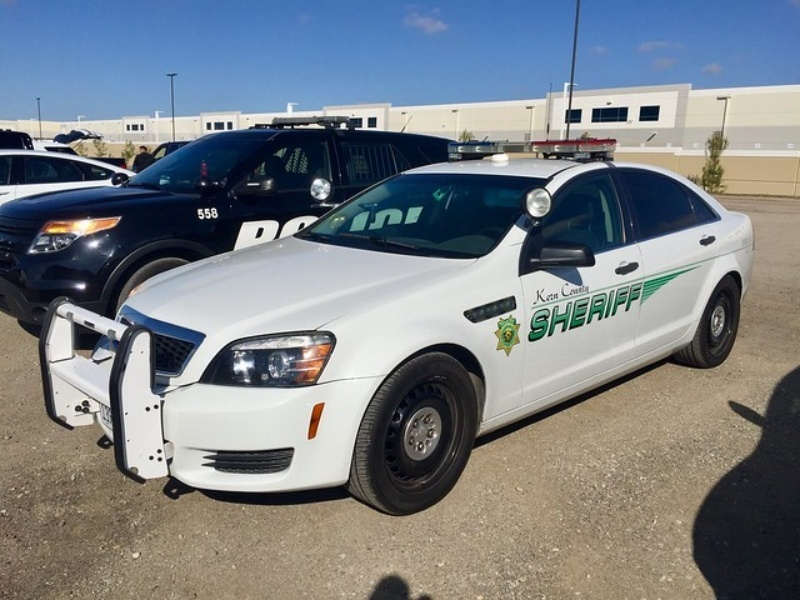policecar: (106, 198, 745, 439)
